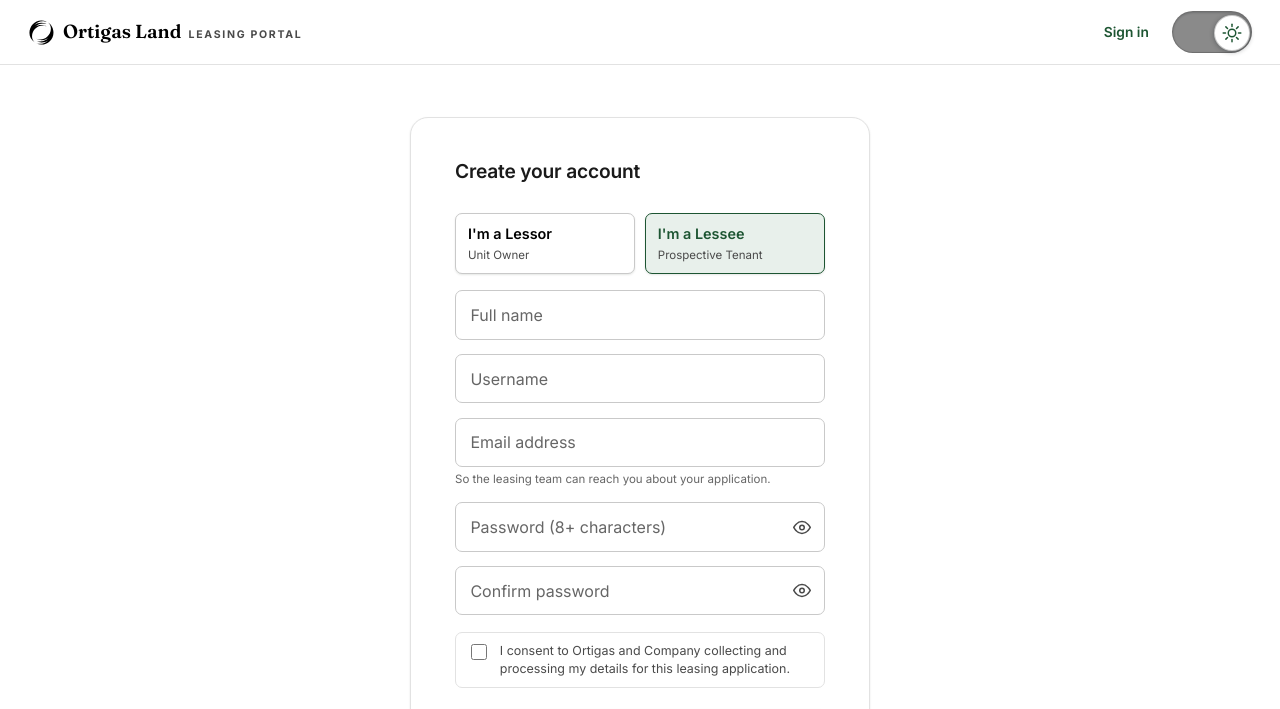
Scenario: SignupView › refuses mismatched passwords with a field-level message
The image size is (1280, 709).
Type "Ana Reyes" into the field with id "name" at coordinates (640, 315), box [455,290,825,340]
Type "ana.reyes" into the field with id "username" at coordinates (640, 379), box [455,354,825,403]
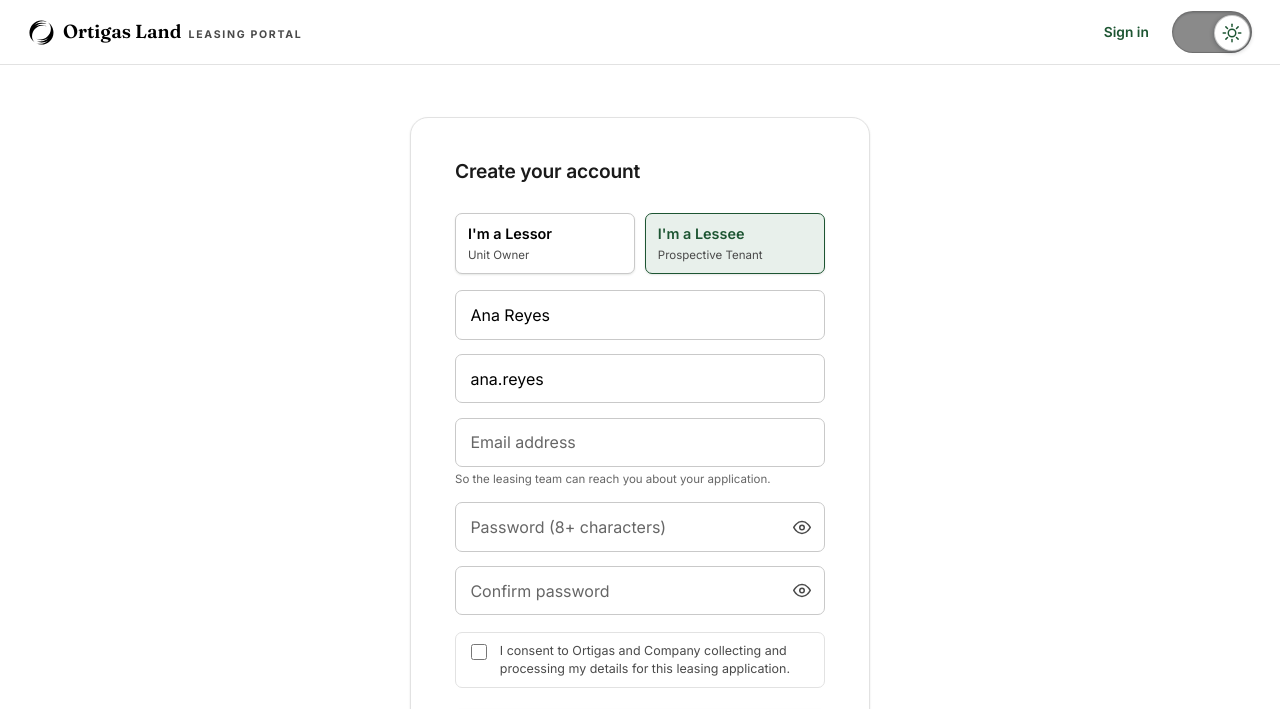
Type "ana@example.com" into the field with id "contactEmail" at coordinates (640, 442), box [455,418,825,467]
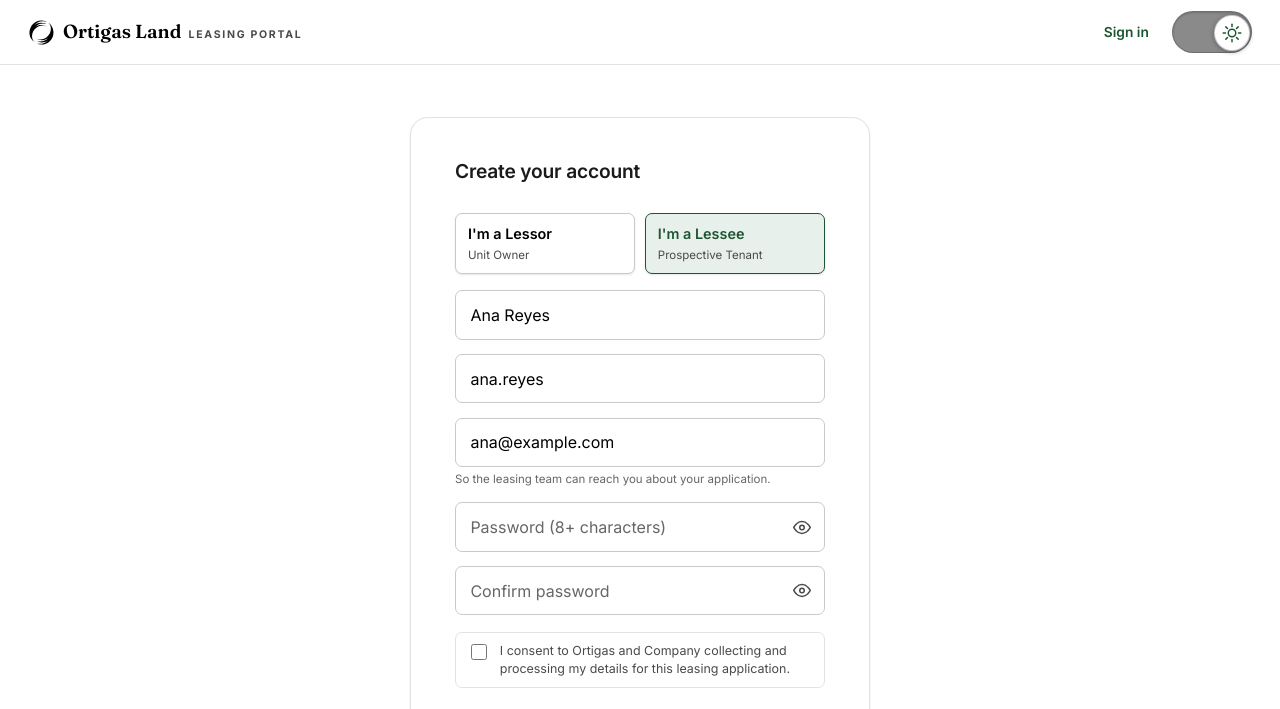
Type "strong-pass-8" into the password field with placeholder "Password (8+ characters)" at coordinates (640, 527), box [455,502,825,552]
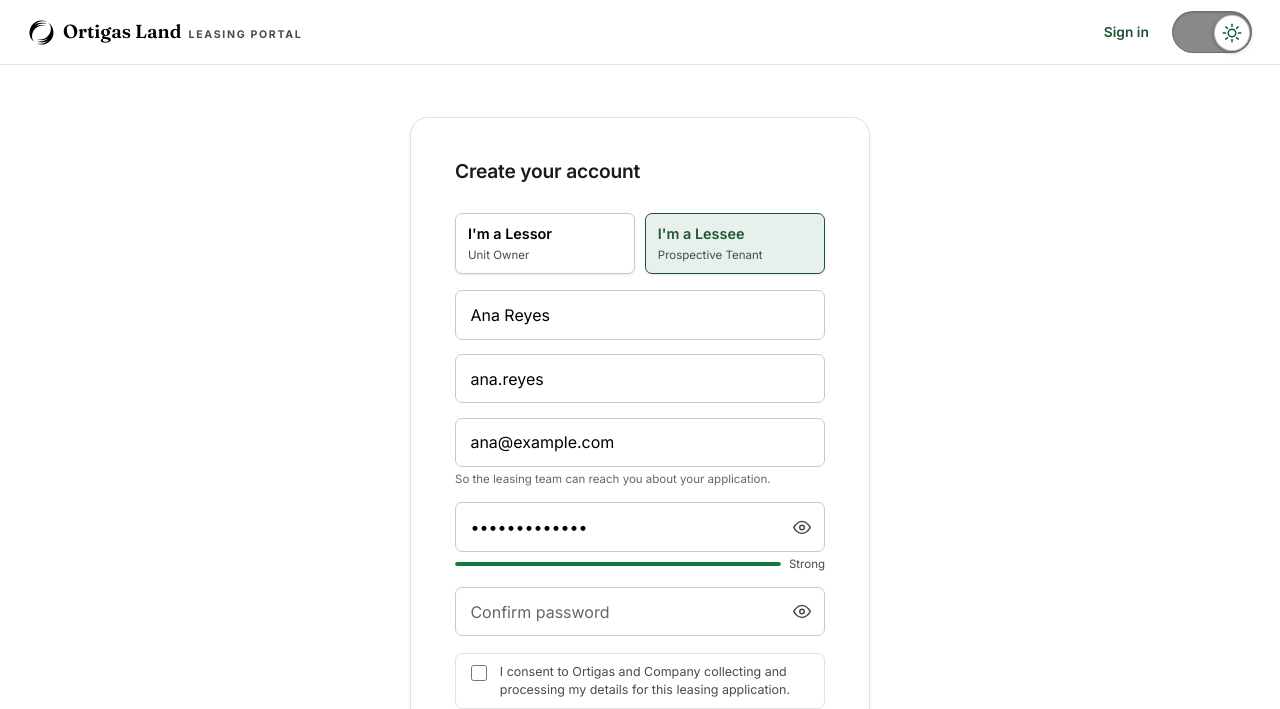
Type "different-pass" into the password field with id "confirm" at coordinates (640, 612), box [455,587,825,636]
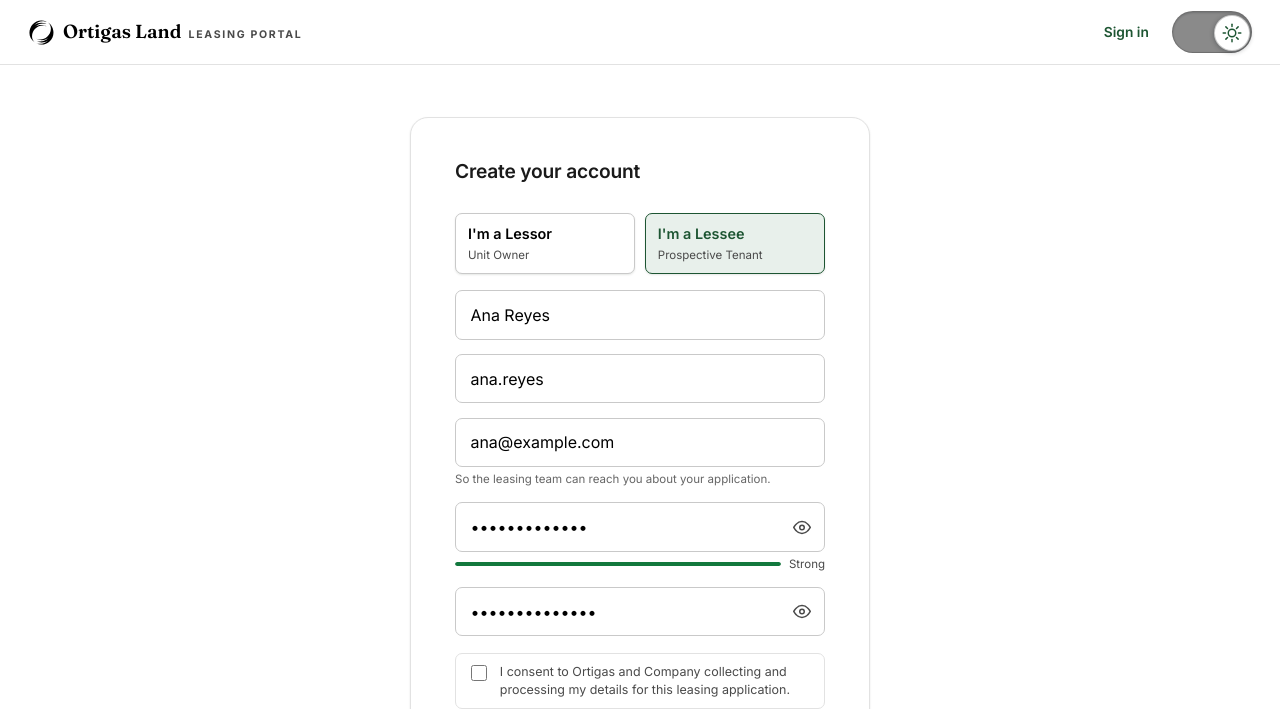
Click the checkbox with id "consent" at coordinates (479, 673), box [471,665,487,681]
(page scrolled)
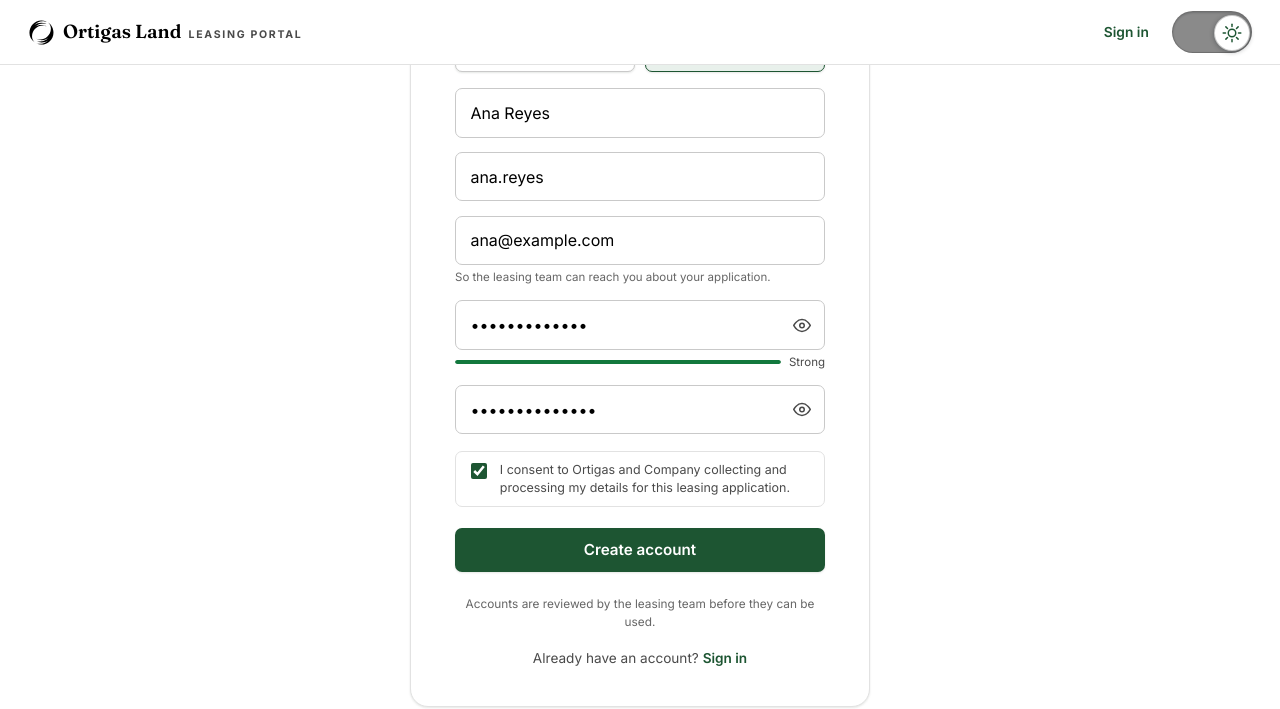
Submit the form, box [455,528,825,629]
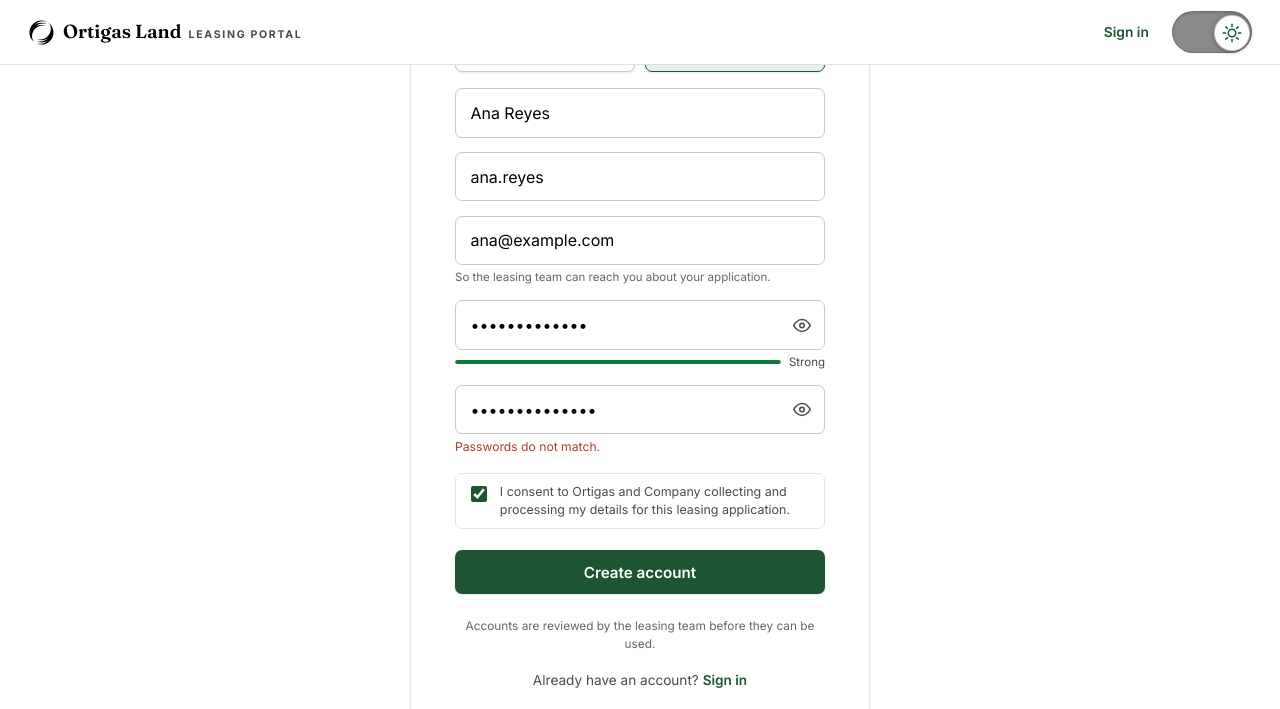
Now the text "Passwords do not match." is shown, box [455,439,600,454]
